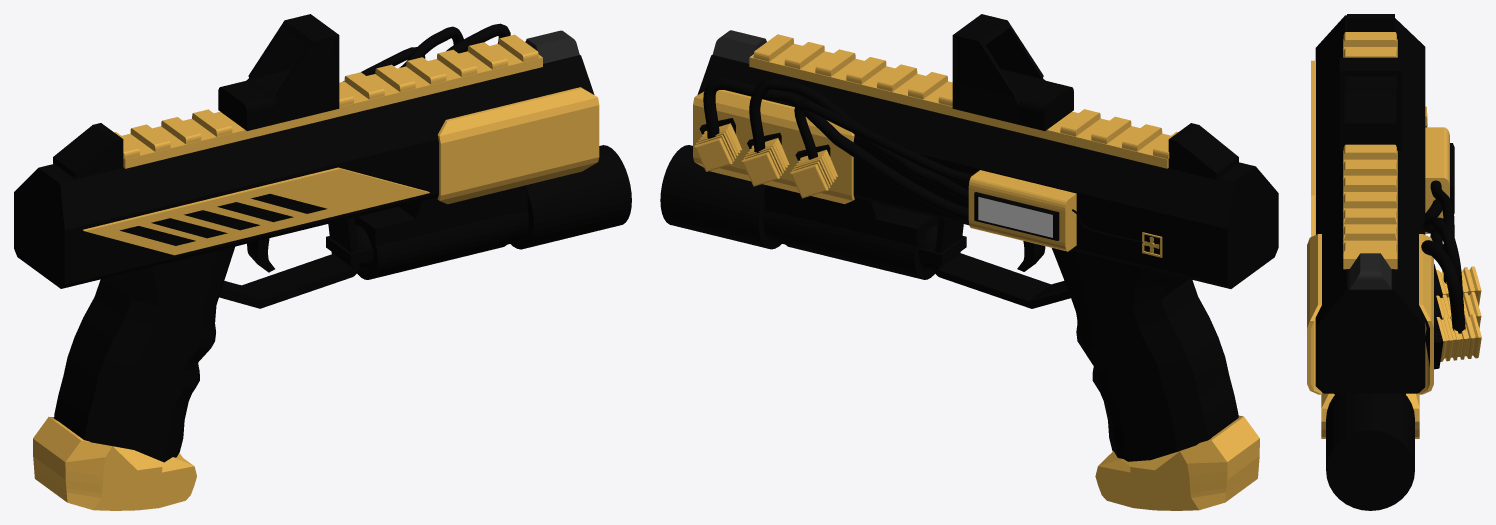
Rendered from Pistol.fbx.
The picture shows the model from 3 angles, left to right: view 1: azimuth 30°, elevation 25°; view 2: azimuth 150°, elevation 25°; view 3: azimuth 270°, elevation 25°; orthographic projection. The views are drawn at different scales.
Visible parts, largest first — view 1: Barrel, Grip Handle, Right Metal Frame, DesignPlate, Grip Handle Bottom, Sight, Rail, Laser Sight Lens, Laser Sight Base, Trigger Well, Rail Base, Cube.019 (+3 smaller); view 2: Barrel, Grip Handle, Grip Handle Bottom, Sight, Rail, Laser Sight Lens, Left Metal Frame, Laser Sight Base, Trigger Well, Rail Base, Battery Indicator, Wire 2 (+9 smaller); view 3: Barrel, Laser Sight Lens, Rail, Sight, wireBase1, Right Metal Frame, Battery Indicator, Left Metal Frame, Wire 2, Wire 1, Rail Base, wireBase 3 (+5 smaller).
Part boxes in pixels (x1,y1,x2,y2): Barrel: (14,30,594,288); Grip Handle: (54,246,234,462); Right Metal Frame: (437,87,599,204); DesignPlate: (83,167,429,255); Grip Handle Bottom: (33,417,196,510); Sight: (218,14,339,130); Rail: (114,34,538,159); Laser Sight Lens: (511,145,631,249); Laser Sight Base: (357,210,528,279); Trigger Well: (219,217,359,308); Rail Base: (121,44,542,168); Cube.019: (354,193,527,247); Barrel: (697,30,1278,288); Grip Handle: (1052,248,1238,461); Grip Handle Bottom: (1095,415,1259,510); Sight: (952,14,1073,130); Rail: (753,34,1178,158); Laser Sight Lens: (660,145,781,249); Left Metal Frame: (693,90,854,204); Laser Sight Base: (763,210,934,279); Trigger Well: (932,218,1070,308); Rail Base: (749,45,1168,168); Battery Indicator: (968,170,1076,251); Wire 2: (703,77,968,221); Barrel: (1315,14,1425,393); Laser Sight Lens: (1326,393,1414,510); Rail: (1343,32,1396,252); Sight: (1339,57,1401,150); wireBase1: (1425,310,1481,369); Right Metal Frame: (1307,234,1321,394); Battery Indicator: (1425,127,1449,233); Left Metal Frame: (1419,234,1433,394); Wire 2: (1421,217,1465,333); Wire 1: (1423,199,1463,306); Rail Base: (1343,39,1397,269); wireBase 3: (1434,264,1481,305).
Bounding box in the file's own units: 1302 × 319 × 915.
